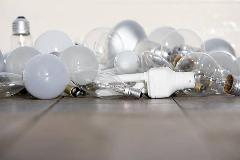lightbulb: (1, 16, 239, 100), (23, 52, 70, 100), (82, 26, 123, 70), (59, 44, 99, 86)
